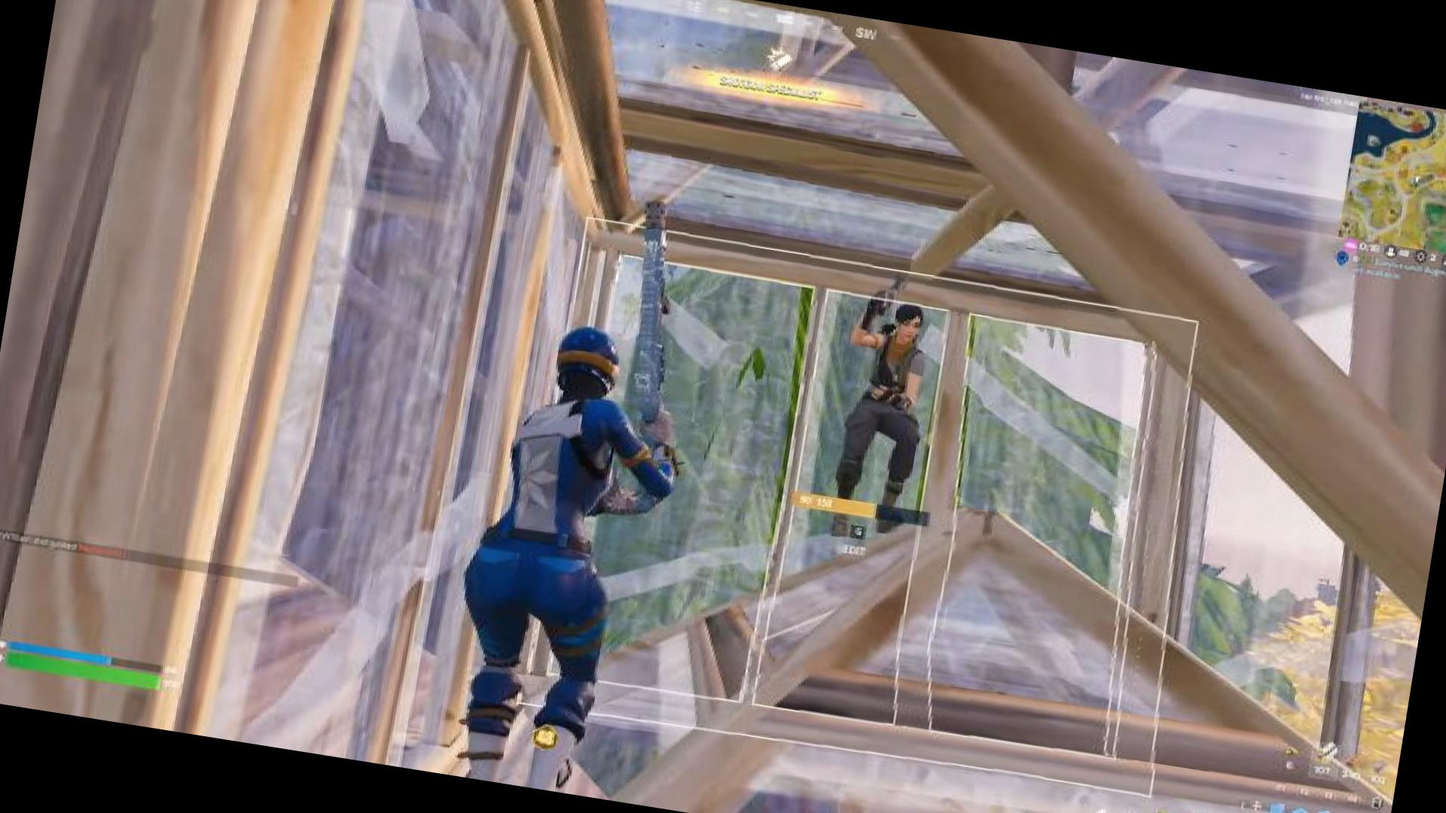player: (414, 297, 683, 800), (816, 290, 955, 532)
